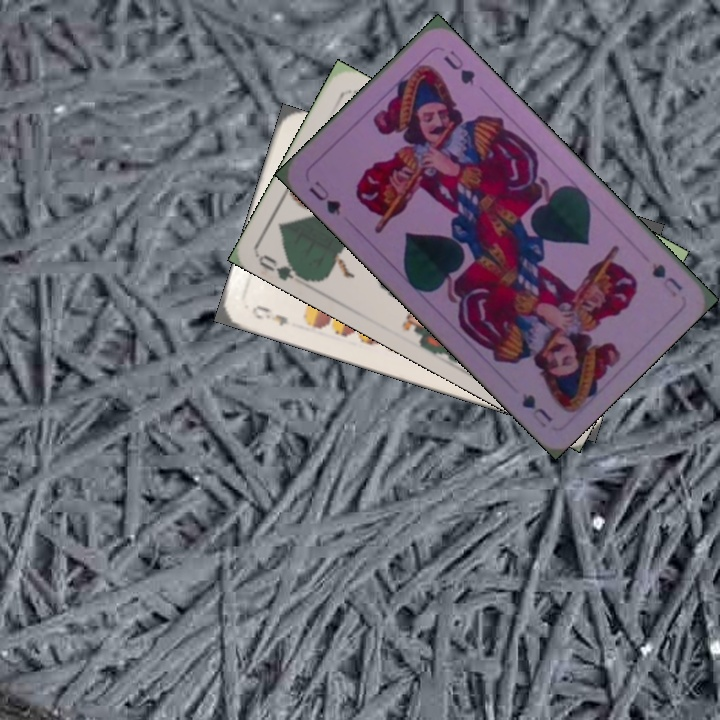E9: (247, 301, 291, 329)
GO: (255, 250, 313, 285)
GU: (305, 176, 344, 218), (647, 259, 685, 300)
